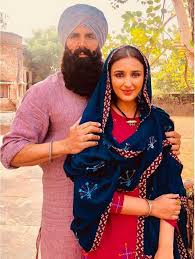Bad: (1, 4, 180, 259)
